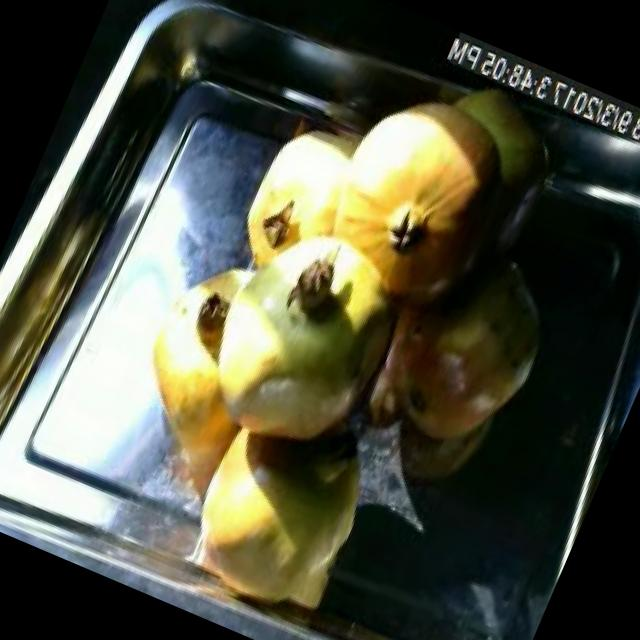fruit: (101, 164, 442, 515), (283, 60, 548, 335), (328, 222, 576, 489)
